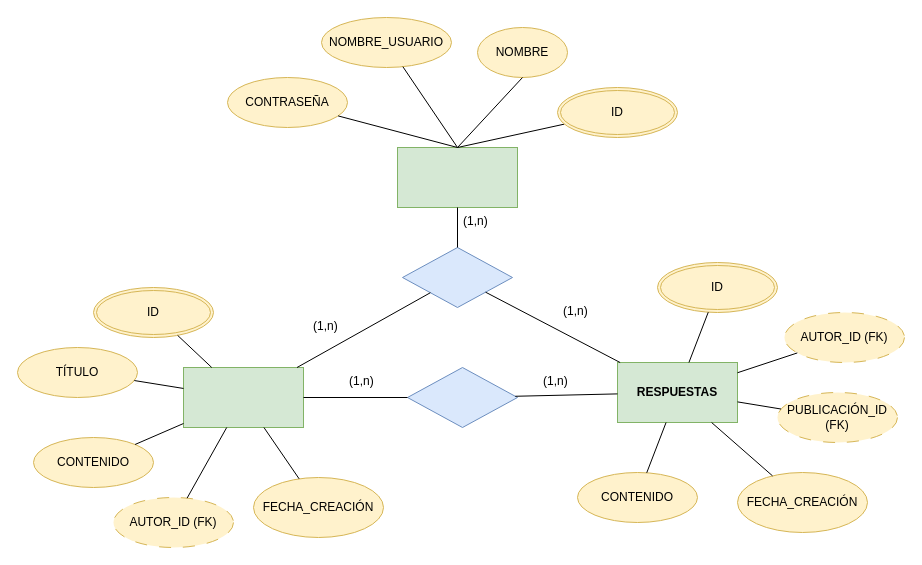
This 922x565 diagram has some shape labels left out. The shapes that lost their labels are listed below. From the top down, each one's centre as x and y in pixels, then its label:
point (457, 177): USUARIOS
point (457, 277): PUBLICAN
point (243, 397): PUBLICACIONES
point (462, 397): TIENEN
